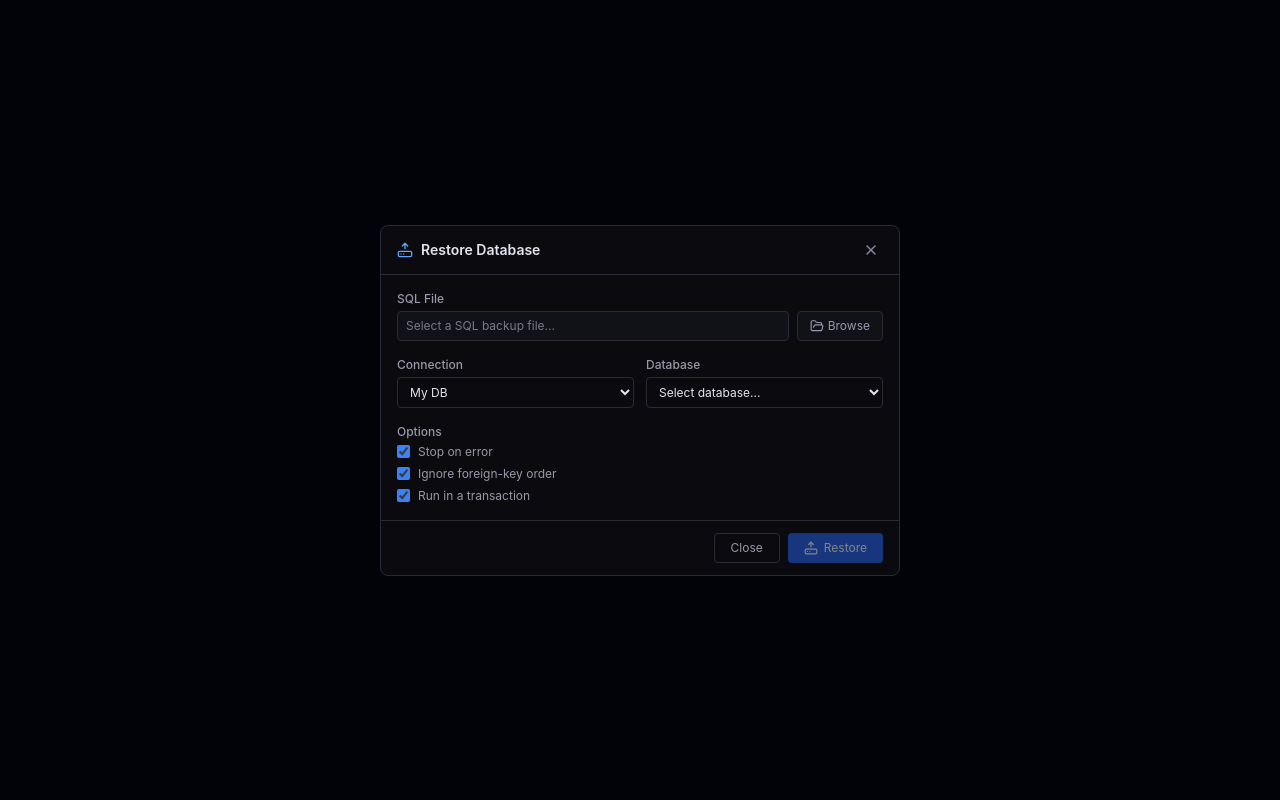
RestoreDialog › running it › says how much ran when it worked
The image size is (1280, 800).
Step 1. Select "testdb" in the dropdown labelled "Database" → (764, 392), box left=646, top=376, right=883, bottom=408
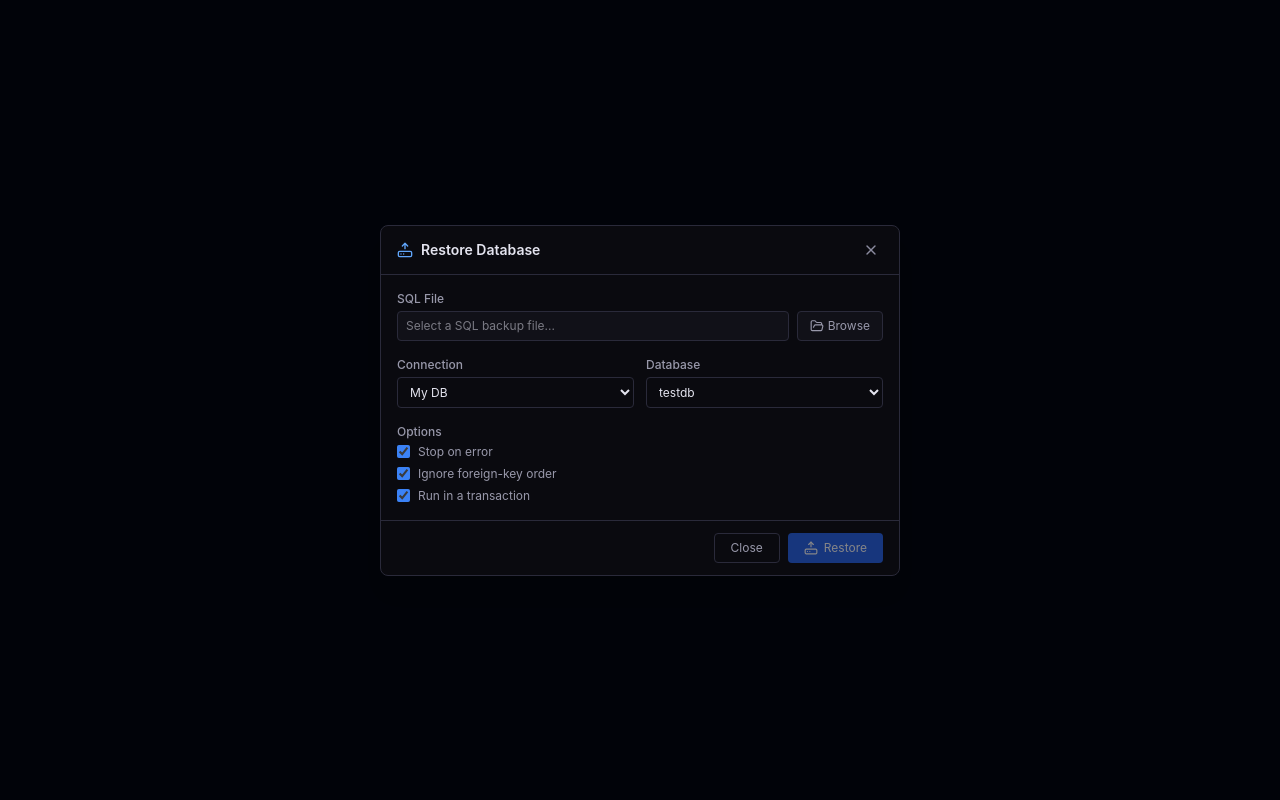
Step 2. Click the button "Browse" → click(840, 326), box left=797, top=310, right=883, bottom=340
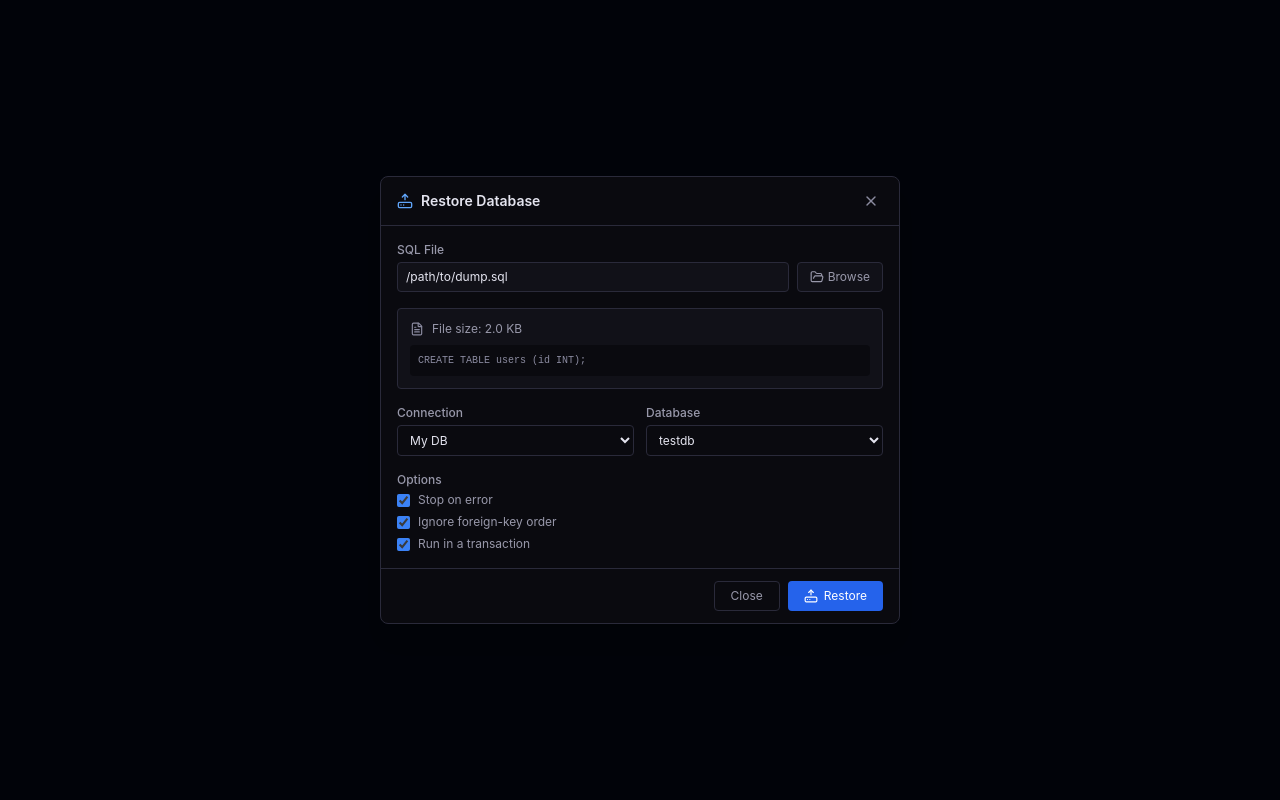
Expected: the button "Restore" is enabled
Step 3. Click the button "Restore" → click(835, 596), box left=788, top=581, right=883, bottom=611
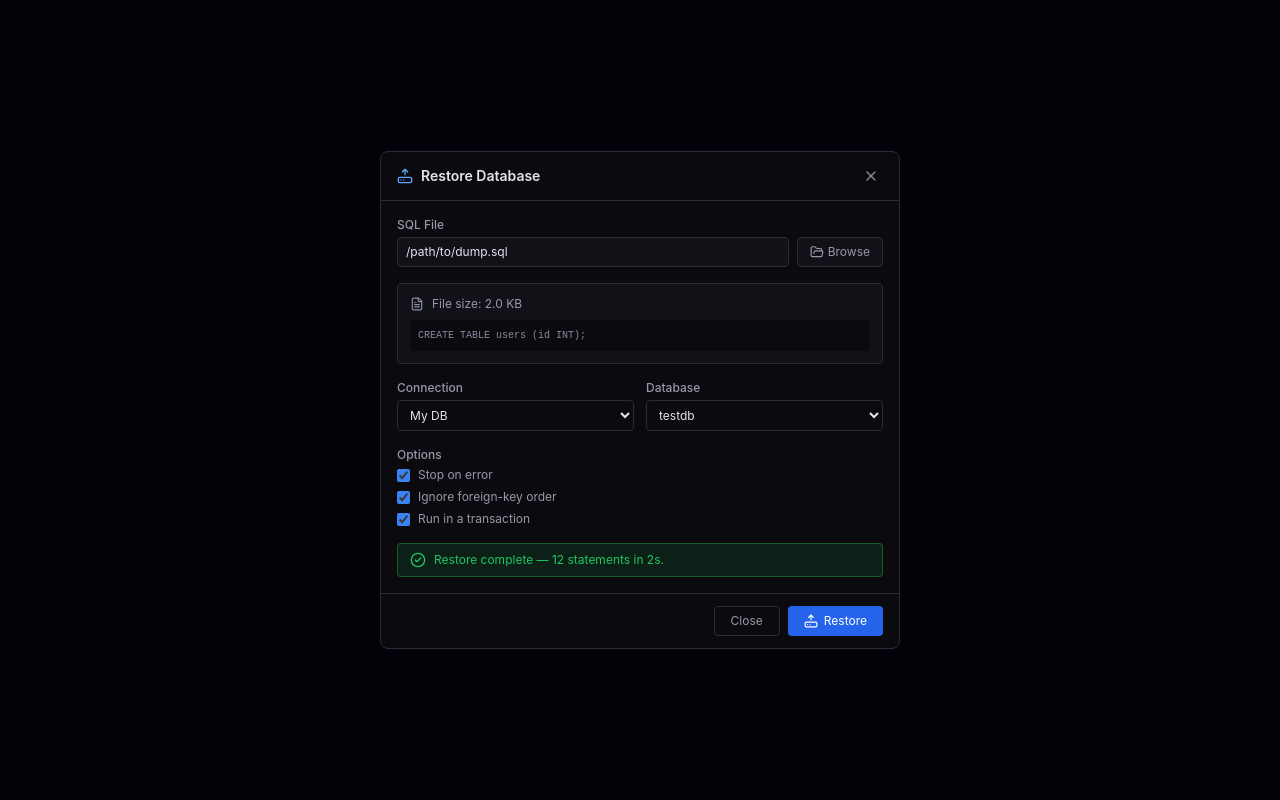
Expected: the text "Restore complete — 12 statements in 2s." is shown, left=410, top=552, right=664, bottom=568
